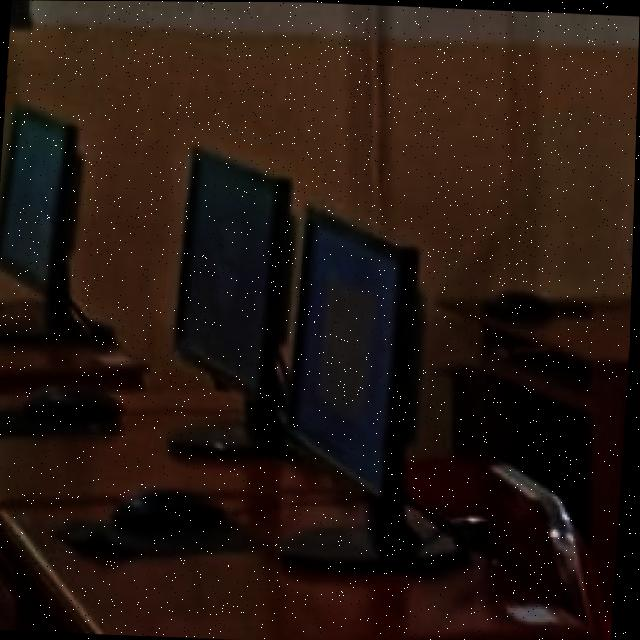onscreen: (290, 209, 419, 497), (178, 151, 289, 391), (0, 108, 76, 307)
